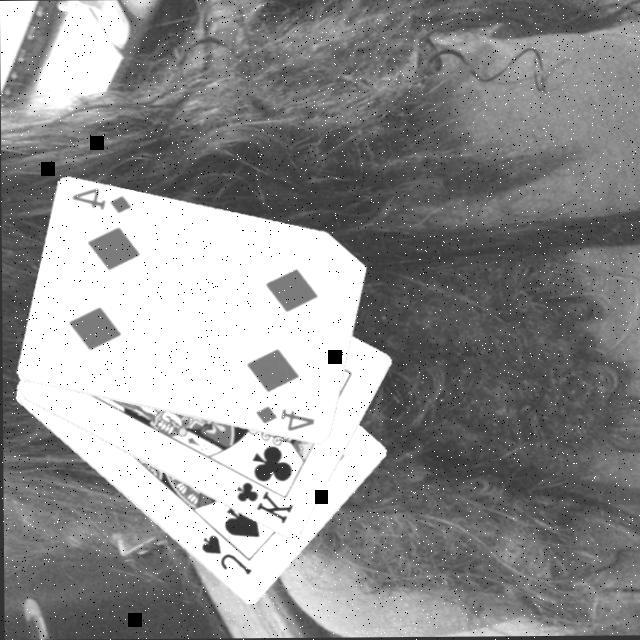4D: (68, 183, 134, 216), (251, 401, 317, 433)
JS: (196, 530, 253, 576)
KC: (232, 467, 296, 526)
